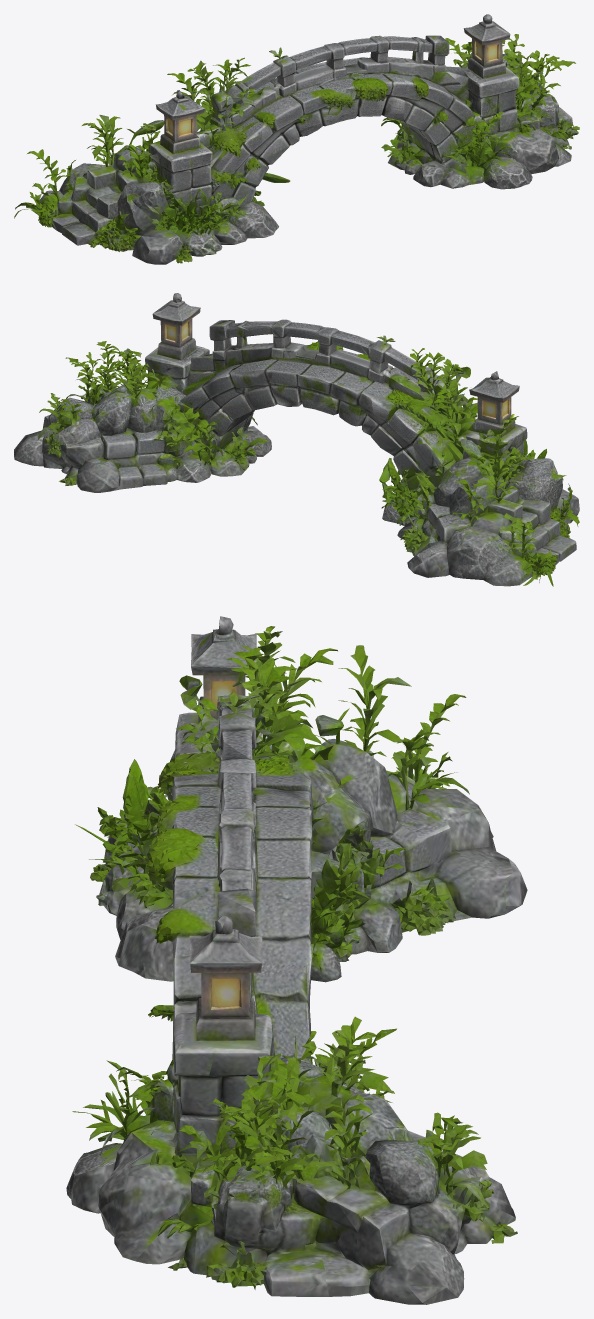
Rendered from stone_bridge.glb.
The picture shows the model from 3 angles, top to bottom: view 1: azimuth 30°, elevation 25°; view 2: azimuth 150°, elevation 25°; view 3: azimuth 270°, elevation 25°; orthographic projection. The views are drawn at different scales.
Visible parts, largest first — view 1: output_unwrapped; view 2: output_unwrapped; view 3: output_unwrapped.
Part boxes in pixels (box(x1,y1,x2,y2)): output_unwrapped: box(14, 14, 579, 264); output_unwrapped: box(14, 293, 579, 586); output_unwrapped: box(66, 616, 527, 1304).
Bounding box in the file's own units: 1.86 × 0.5204 × 0.7069.
Materials: 1 (1 with a texture image).
